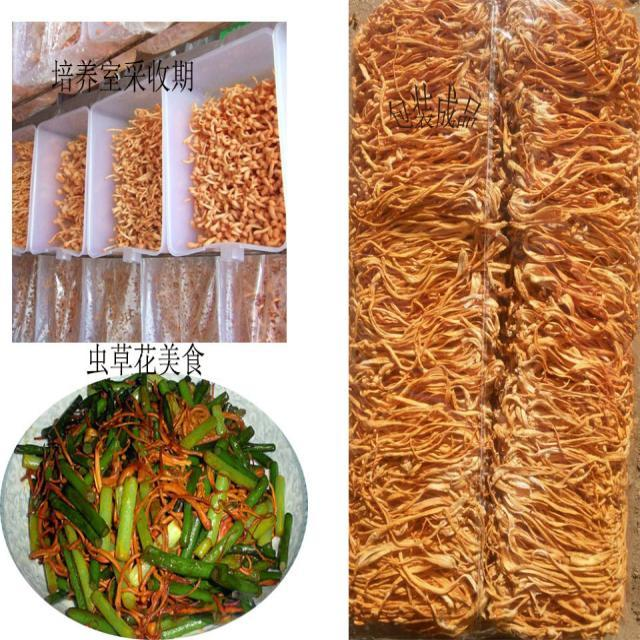Cordyceps militaris: (352, 1, 637, 633), (183, 84, 284, 245), (109, 110, 162, 244), (48, 142, 86, 244)
